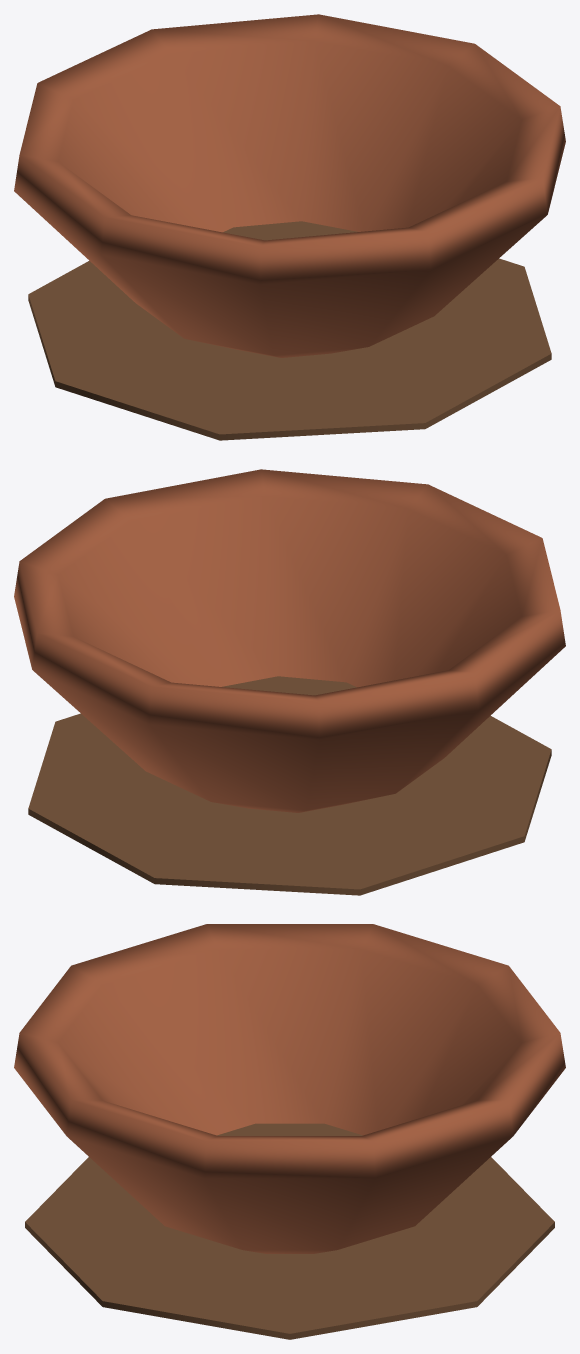
File: bowl.glb
3 renders of one model, top to bottom at view 1: azimuth 30°, elevation 25°; view 2: azimuth 150°, elevation 25°; view 3: azimuth 270°, elevation 25°, orthographic. The views are drawn at different scales.
Parts seen in each view (by area): view 1: bowl-surface; view 2: bowl-surface; view 3: bowl-surface.
Part boxes in pixels (x1,y1,x2,y2): bowl-surface: [14, 14, 565, 440]; bowl-surface: [14, 469, 565, 895]; bowl-surface: [14, 924, 565, 1339].
Bounding box in the file's own units: 0.96 × 0.39 × 1.
